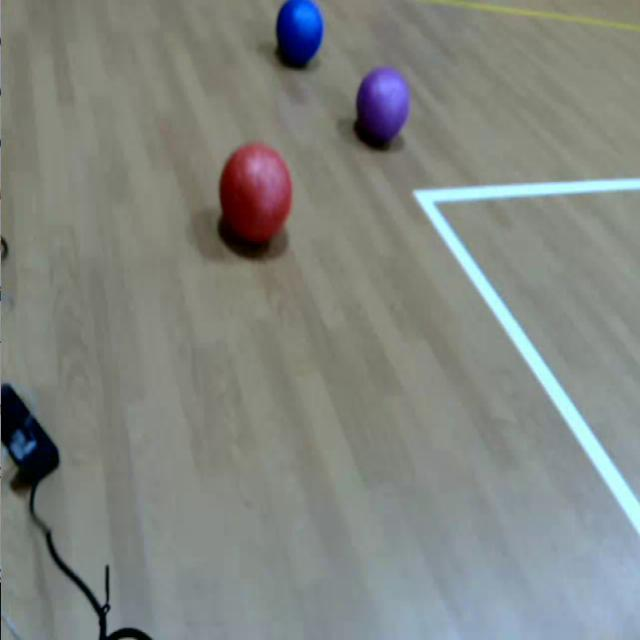blue_ball: (275, 0, 322, 65)
purple_ball: (354, 68, 410, 146)
red_ball: (218, 142, 294, 245)
